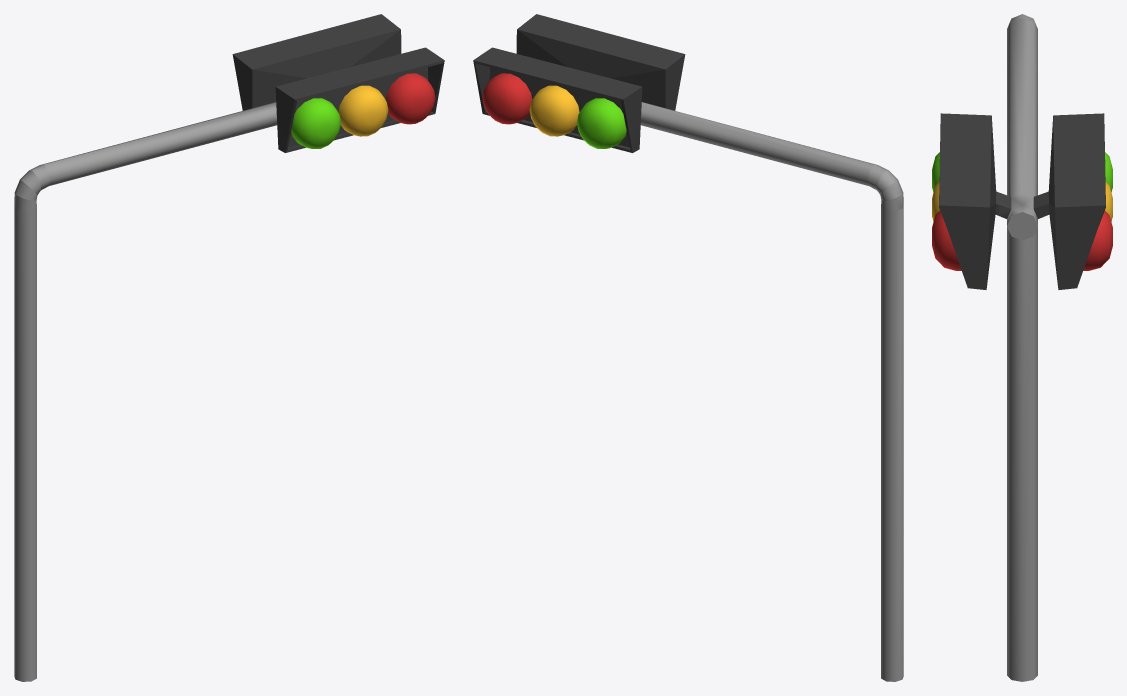
File: TrafficLights.fbx
The picture shows the model from 3 angles, left to right: view 1: azimuth 30°, elevation 25°; view 2: azimuth 150°, elevation 25°; view 3: azimuth 270°, elevation 25°; orthographic projection. The views are drawn at different scales.
Visible parts, largest first — view 1: TrafficLights; view 2: TrafficLights; view 3: TrafficLights.
Part boxes in pixels (x1,y1,x2,y2): TrafficLights: (14, 14, 444, 681); TrafficLights: (473, 14, 903, 681); TrafficLights: (932, 14, 1112, 681).
Bounding box in the file's own units: 8.52 × 11.11 × 2.53.
